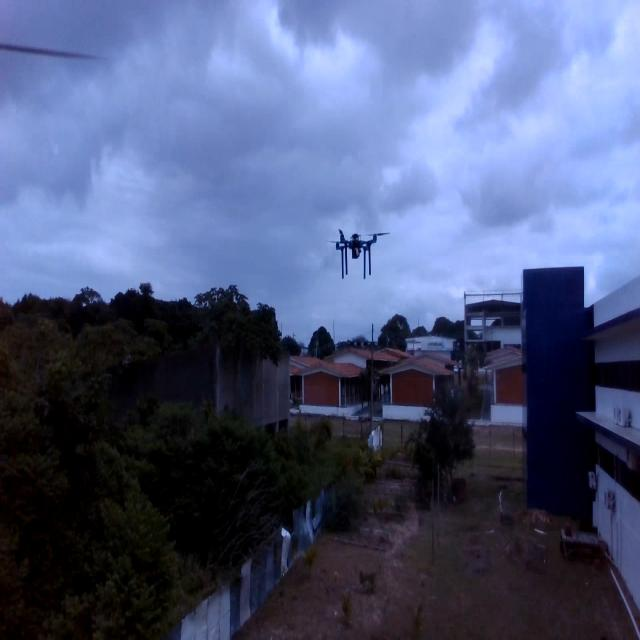-uav-: (324, 219, 398, 292)
